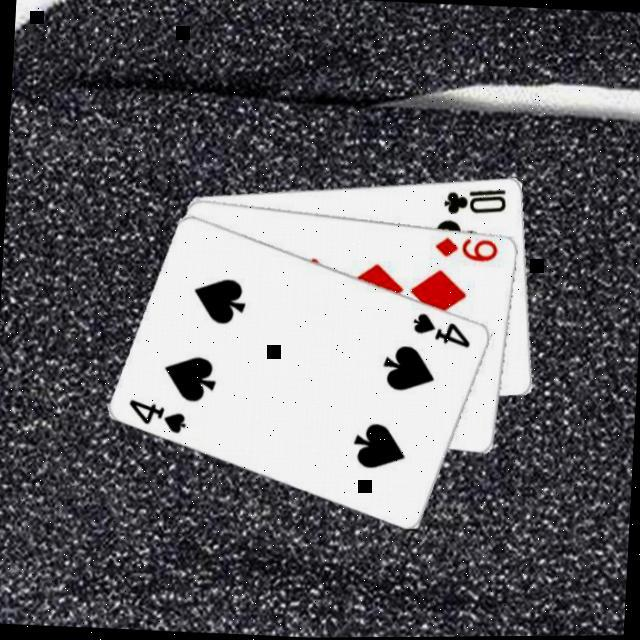10C: (438, 184, 509, 220)
4S: (408, 311, 474, 352), (124, 397, 190, 438)
9D: (430, 234, 500, 266)
